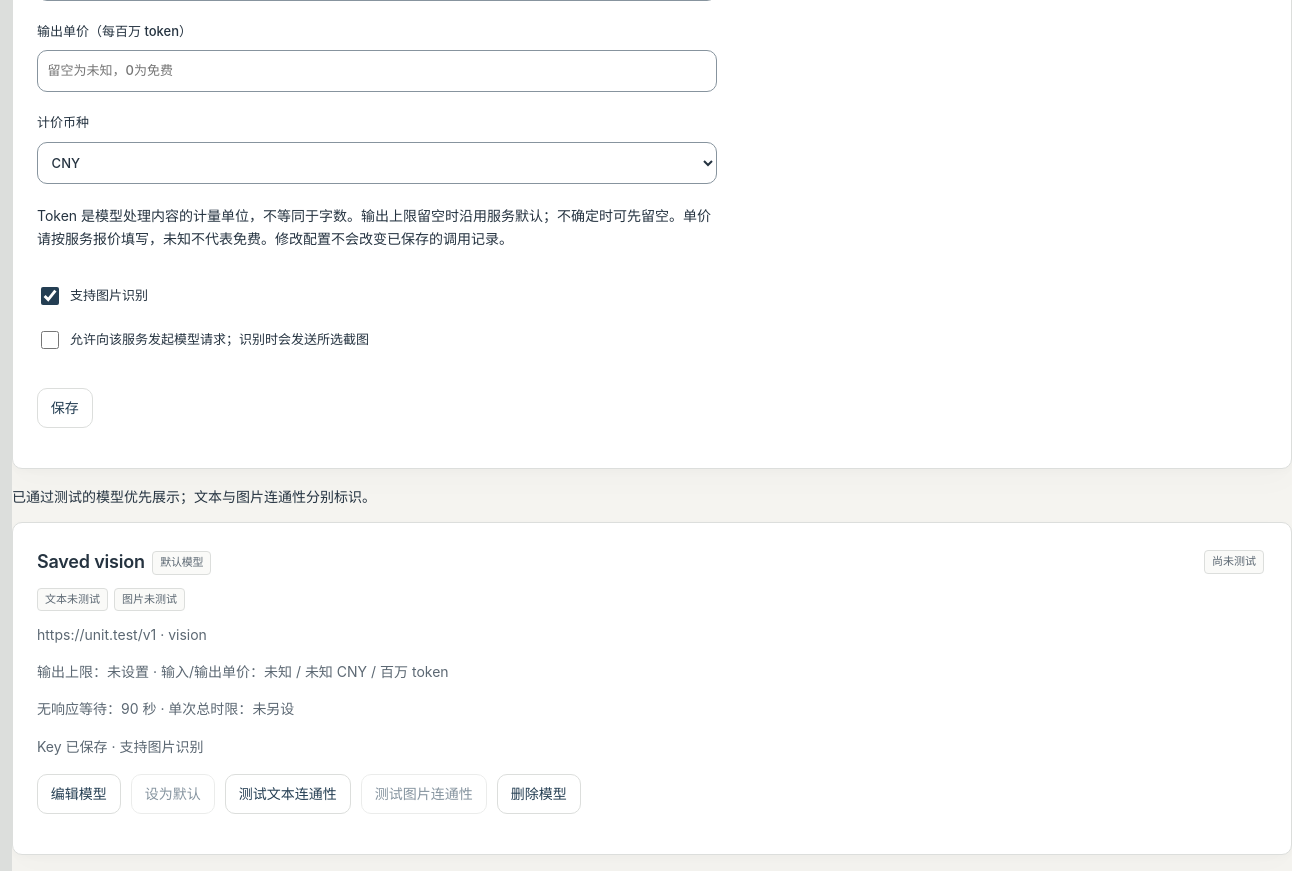
Test: edits a saved model without exposing or replacing its key, and tests connectivity
(page scrolled)
Check: the heading "Saved vision 默认模型" is shown, box [37,547,214,578]
Click the button "编辑模型" at (79, 794), box [37,774,121,814]
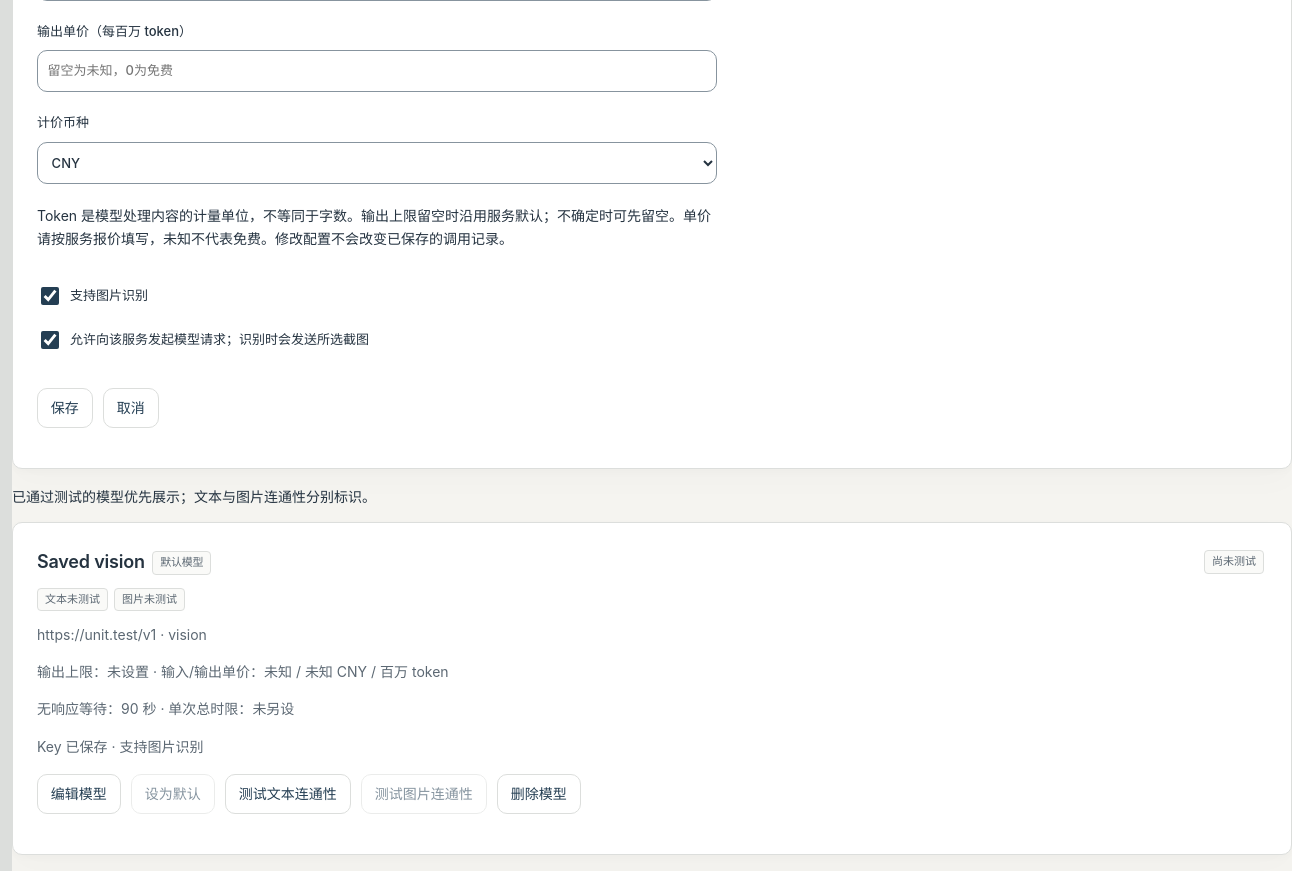
Click the button "保存" at (65, 408), box [37,388,93,428]
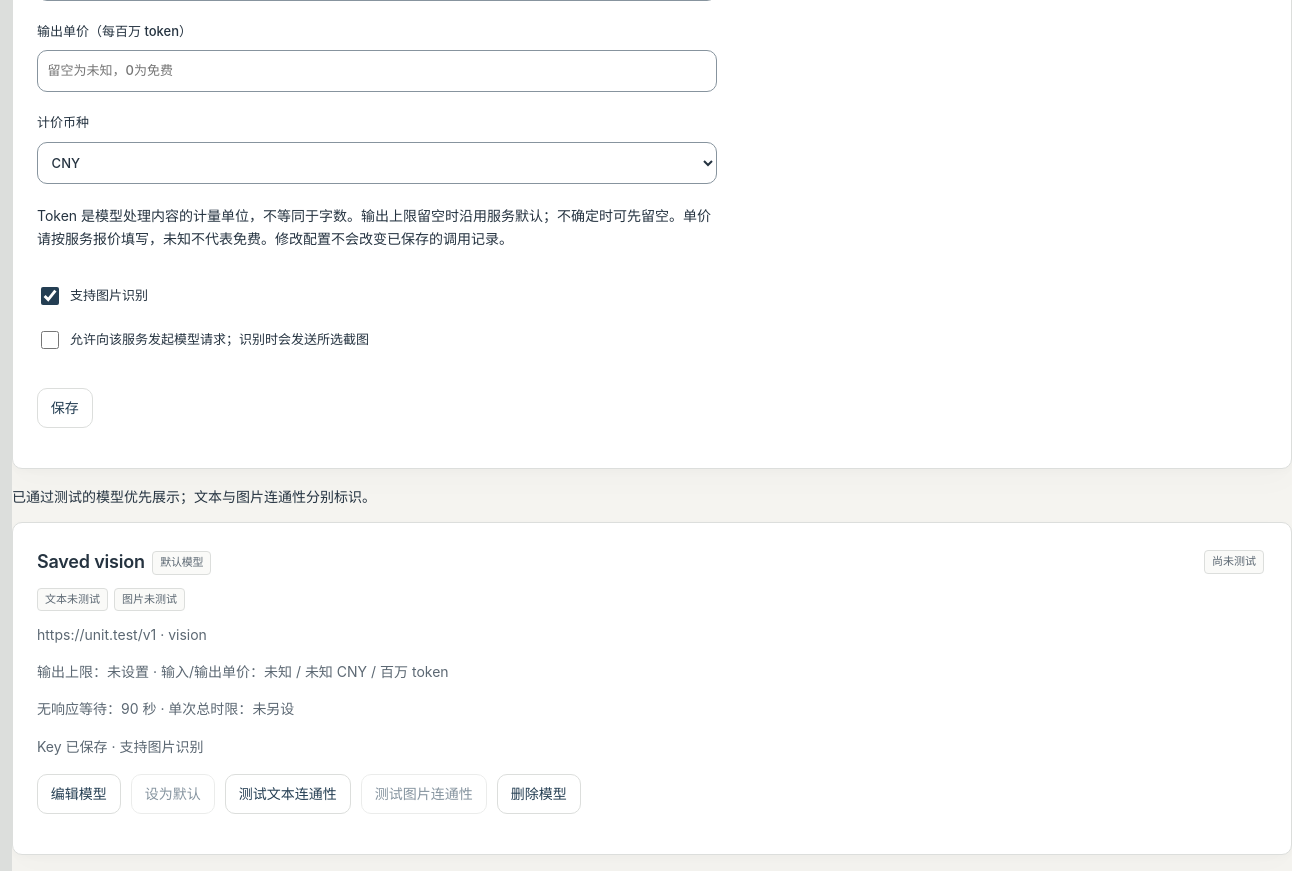
Click the button "测试文本连通性" at (288, 794), box [225,774,351,814]
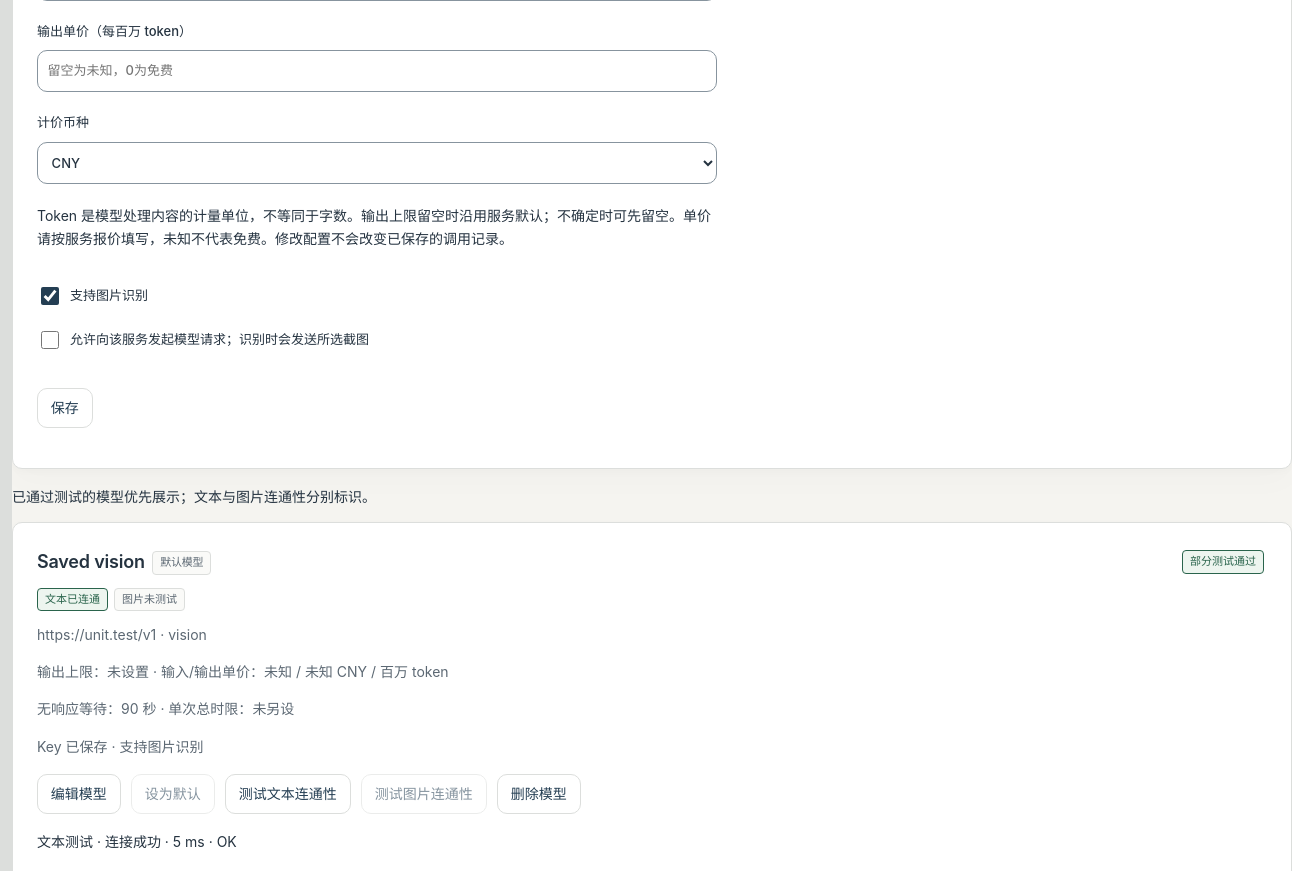
Check: the text "文本测试 · 连接成功 · 5 ms · OK" is shown, box [37,833,237,850]
